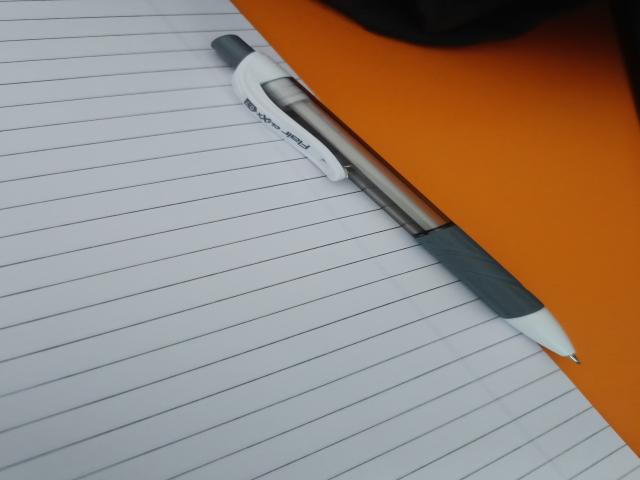PEN: (187, 16, 603, 409)
